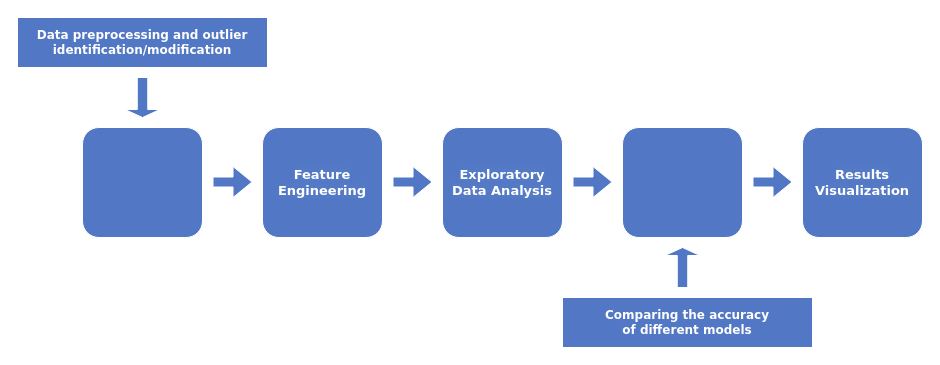
The diagram is 940 pixels wide and 365 high, and some of its shapes have lost their labels. Here are the shapes that lost their labels. From the top down, the box of each, then its label:
(82, 126, 202, 238): Data Cleaning
(622, 126, 742, 238): Model Training and Evaluation
